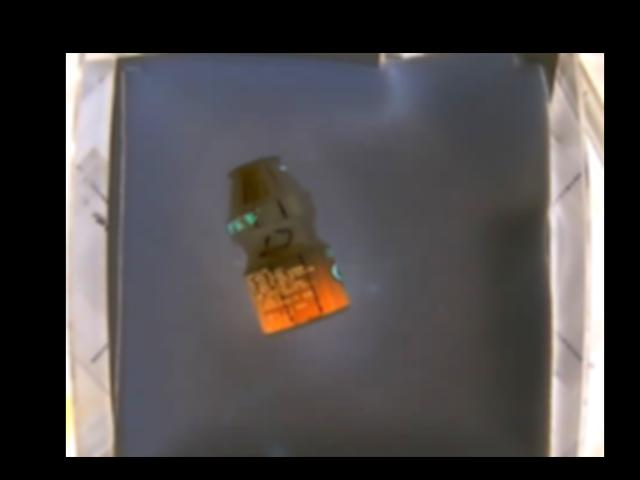Bottle: (228, 155, 351, 336)
